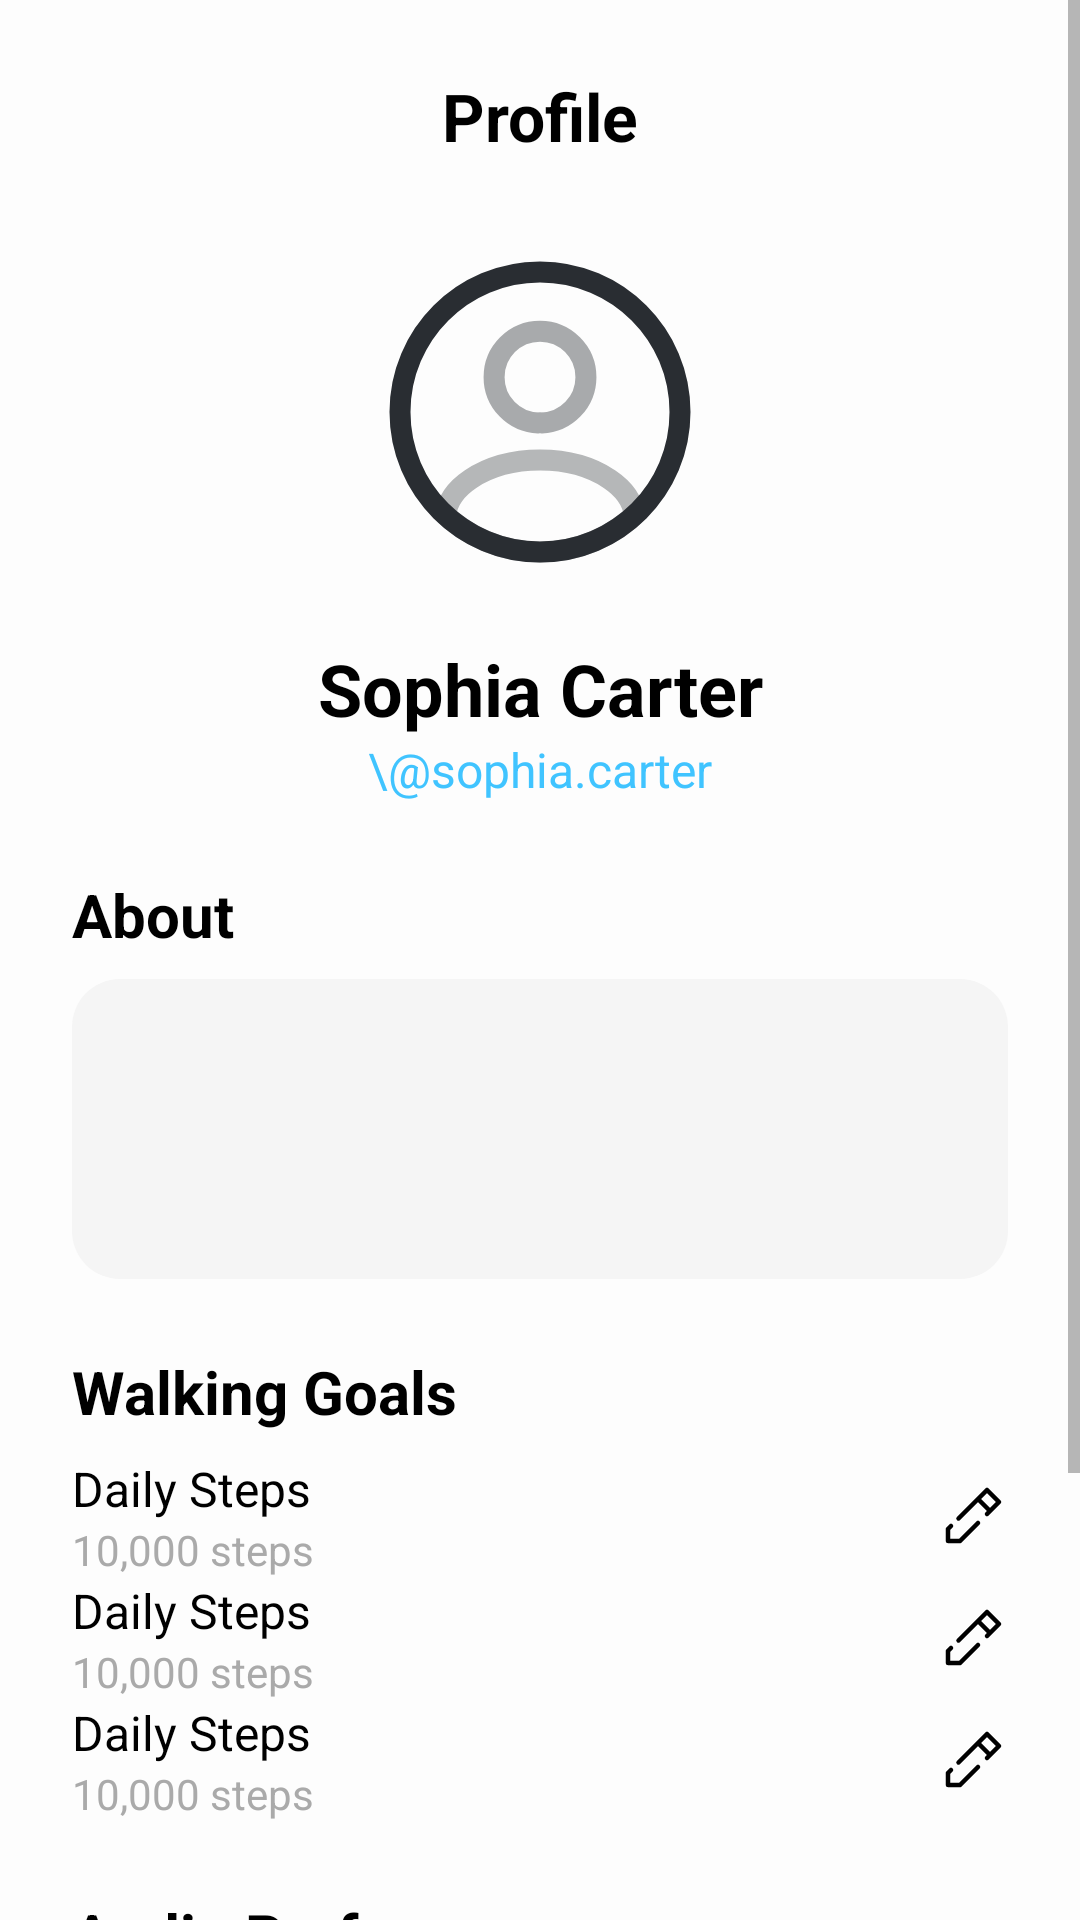

Point at icon controls on the screen. Image size 1080 x 1920, points as point (x, y).
edit: point (973, 1515), point (973, 1637), point (973, 1759)
